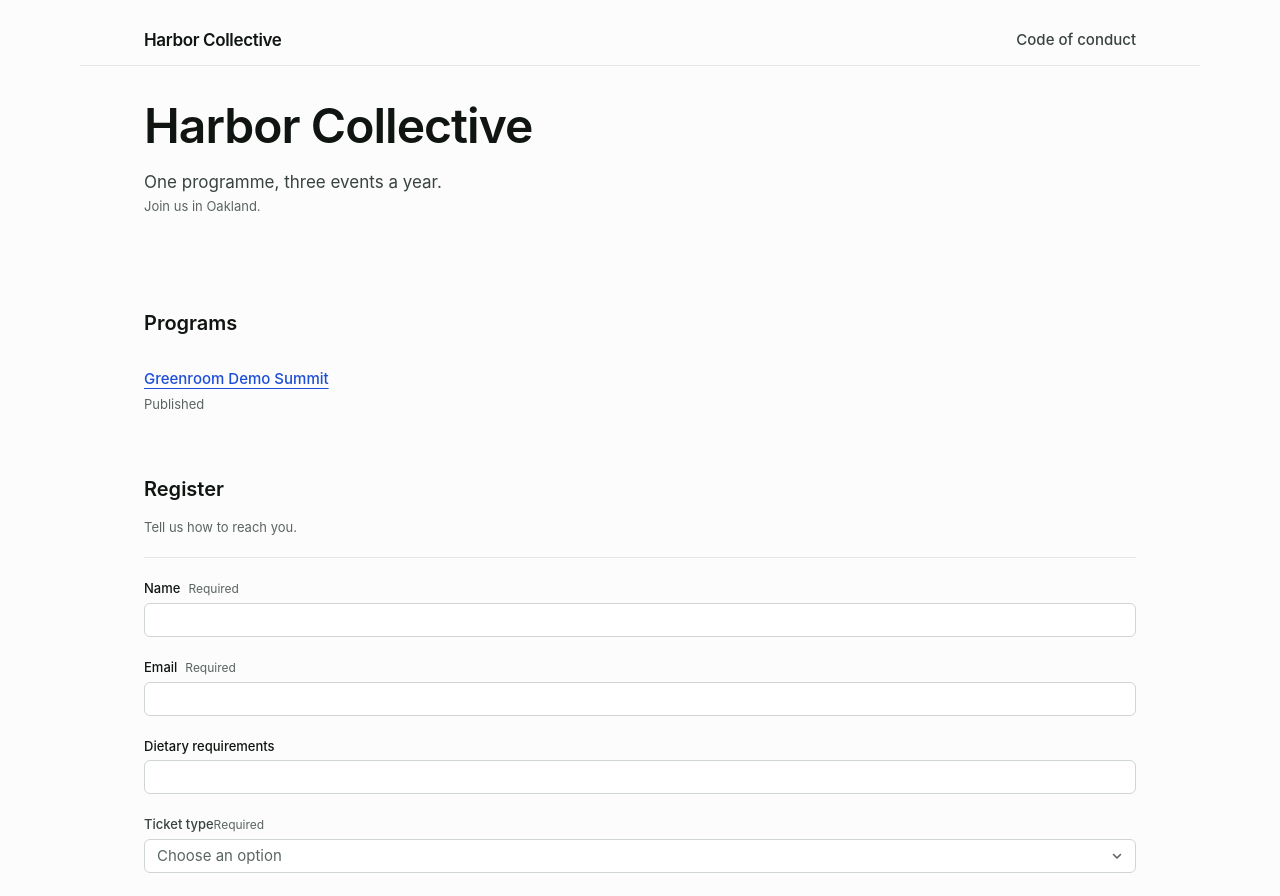
Test: sends the answers and the consent stamp, and says which version was accepted
expect the heading "Harbor Collective" is shown: met, box [144,96,532,155]
Type "Pat Attendee" into the field labelled "Name Required" at (640, 620), box [144,603,1136,637]
Type "pat@example.com" into the field labelled "Email Required" at (640, 699), box [144,682,1136,716]
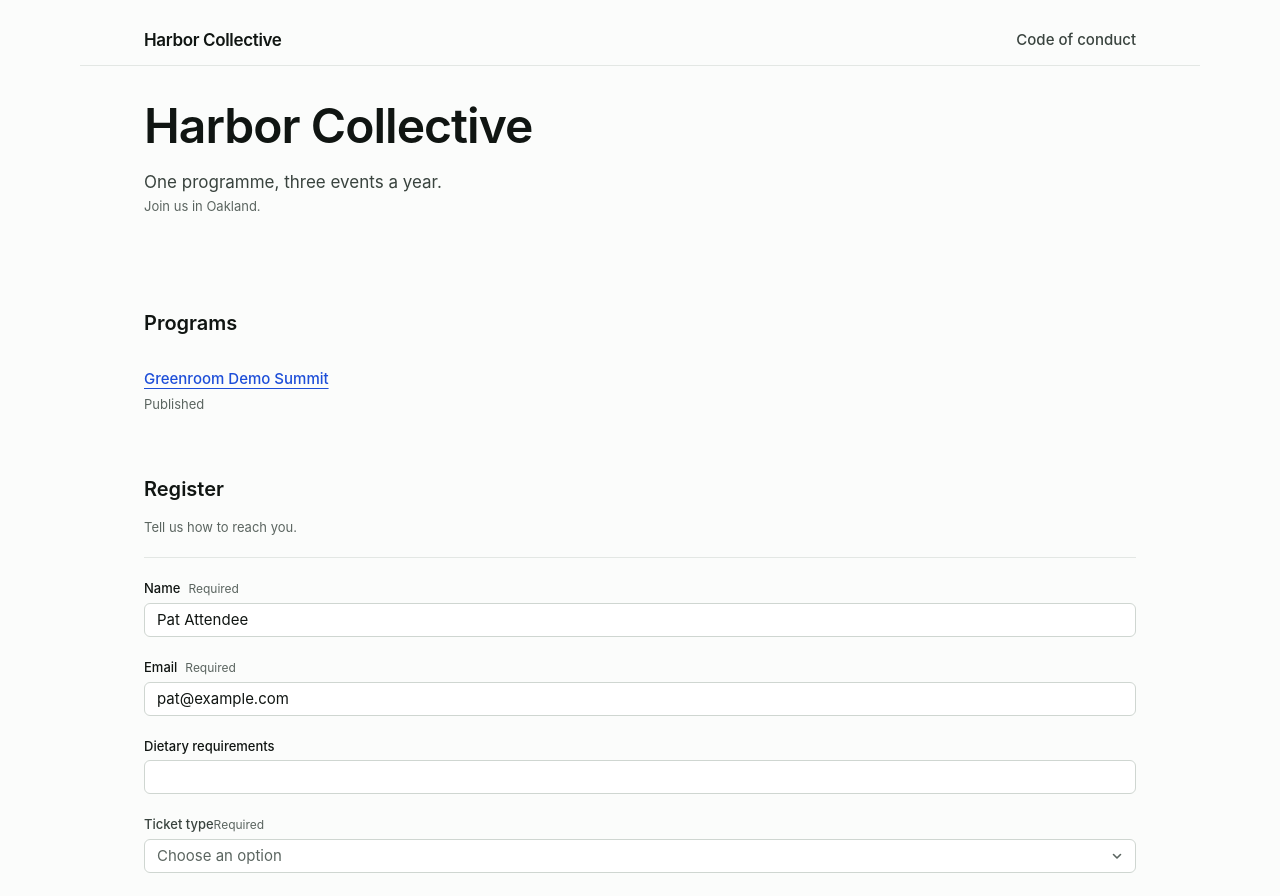
Type "None" into the field labelled "Dietary requirements" at (640, 777), box [144,760,1136,794]
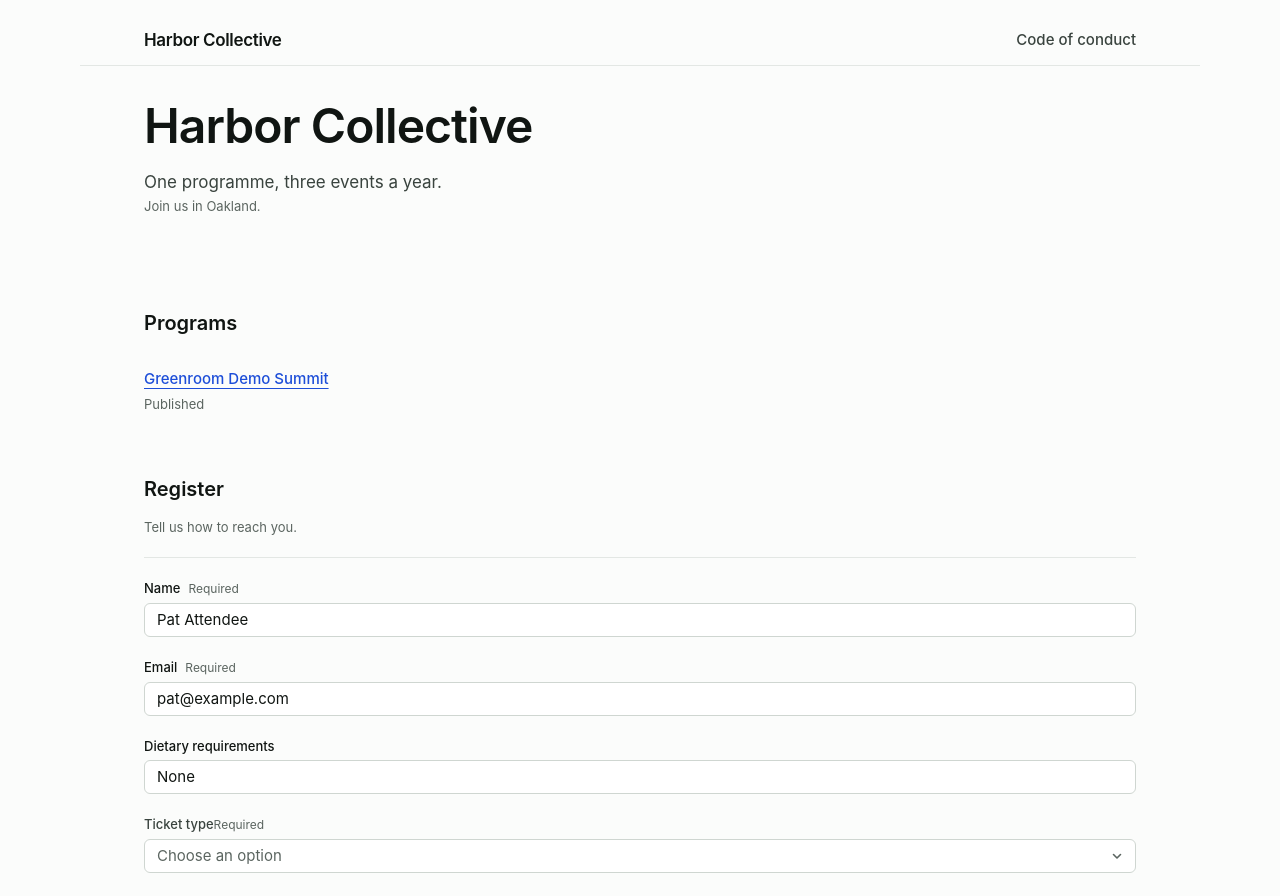
Press ArrowDown in the dropdown named "Ticket type", box [144,839,1136,873]
(page scrolled)
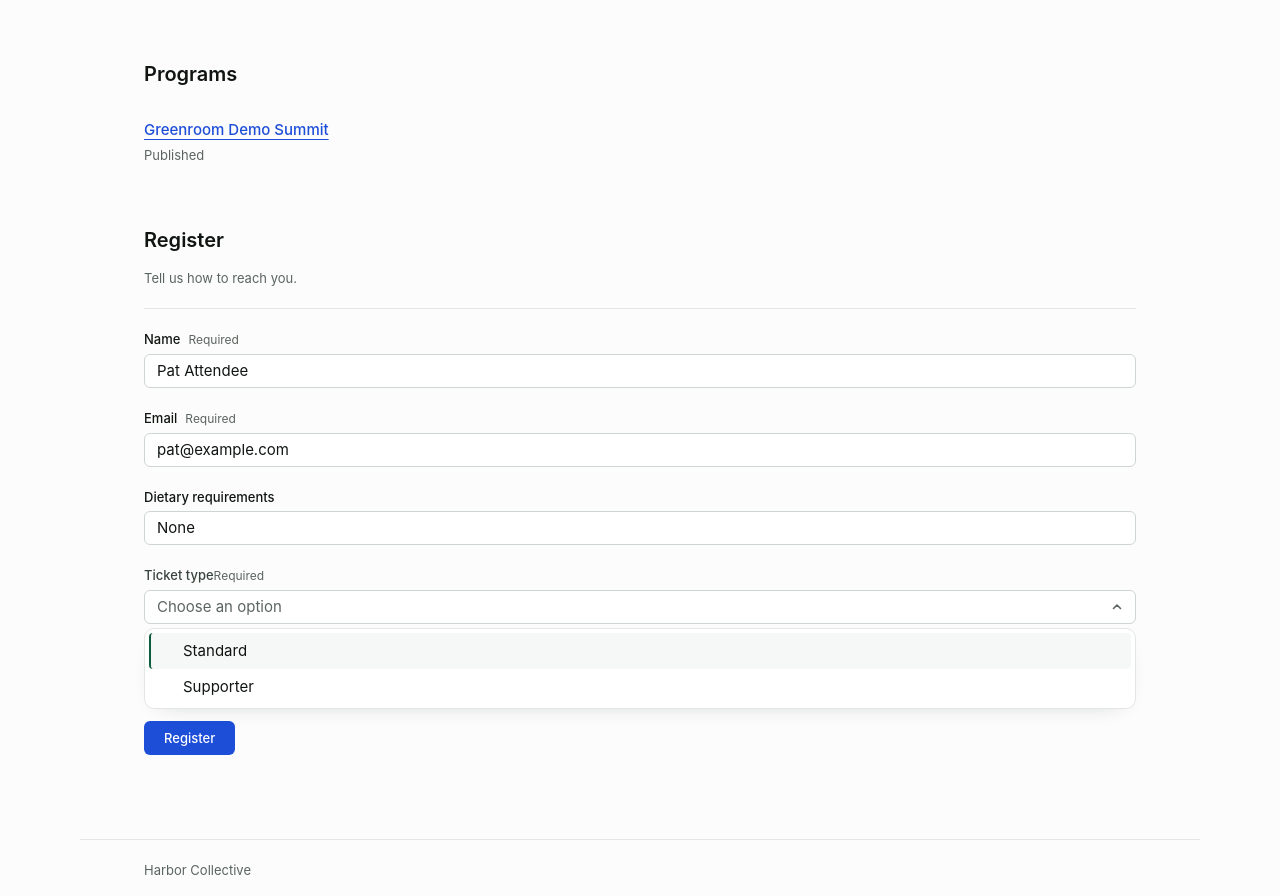
Click the option "Supporter" at (218, 686), box [183,677,254,696]
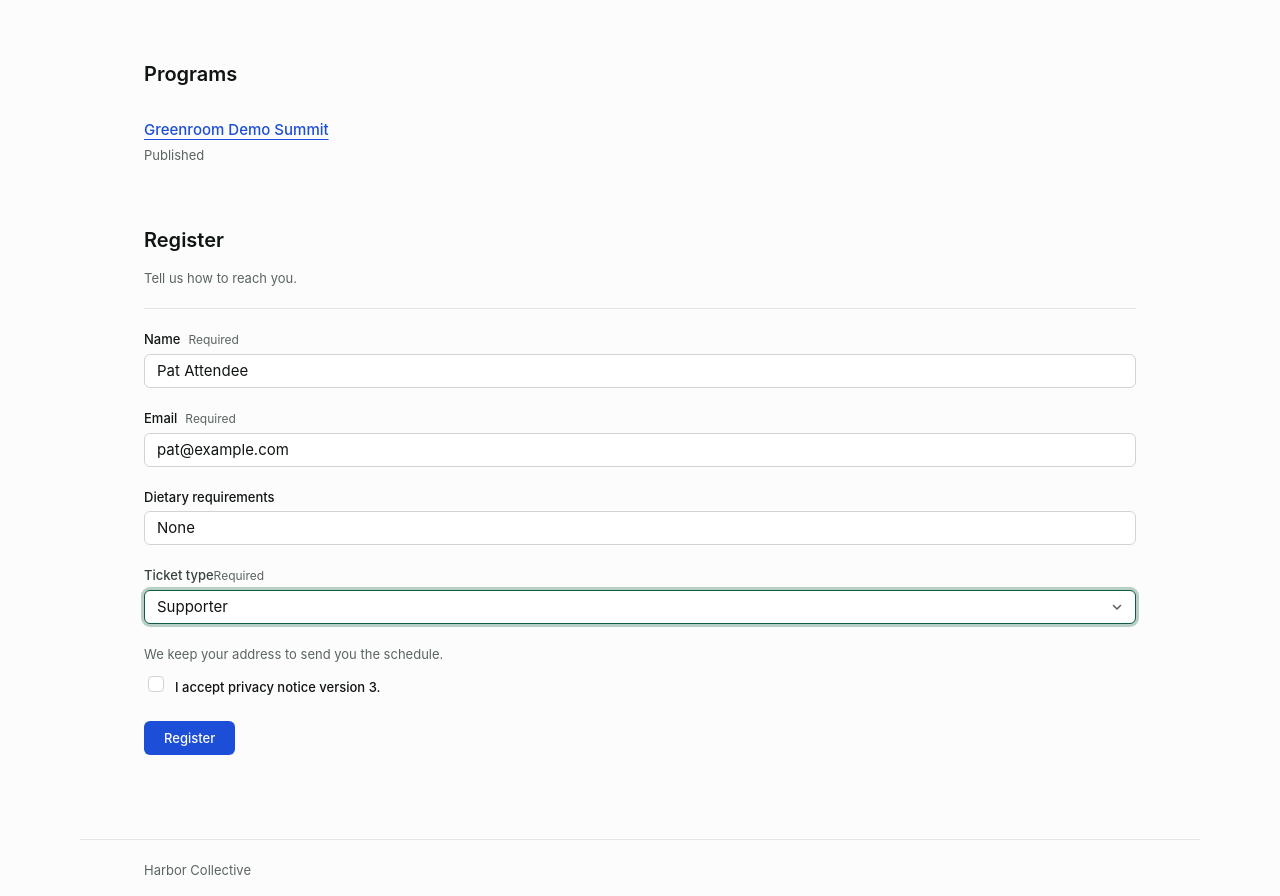
Click the checkbox labelled "I accept privacy notice version 3." at (156, 684), box [148,676,164,692]
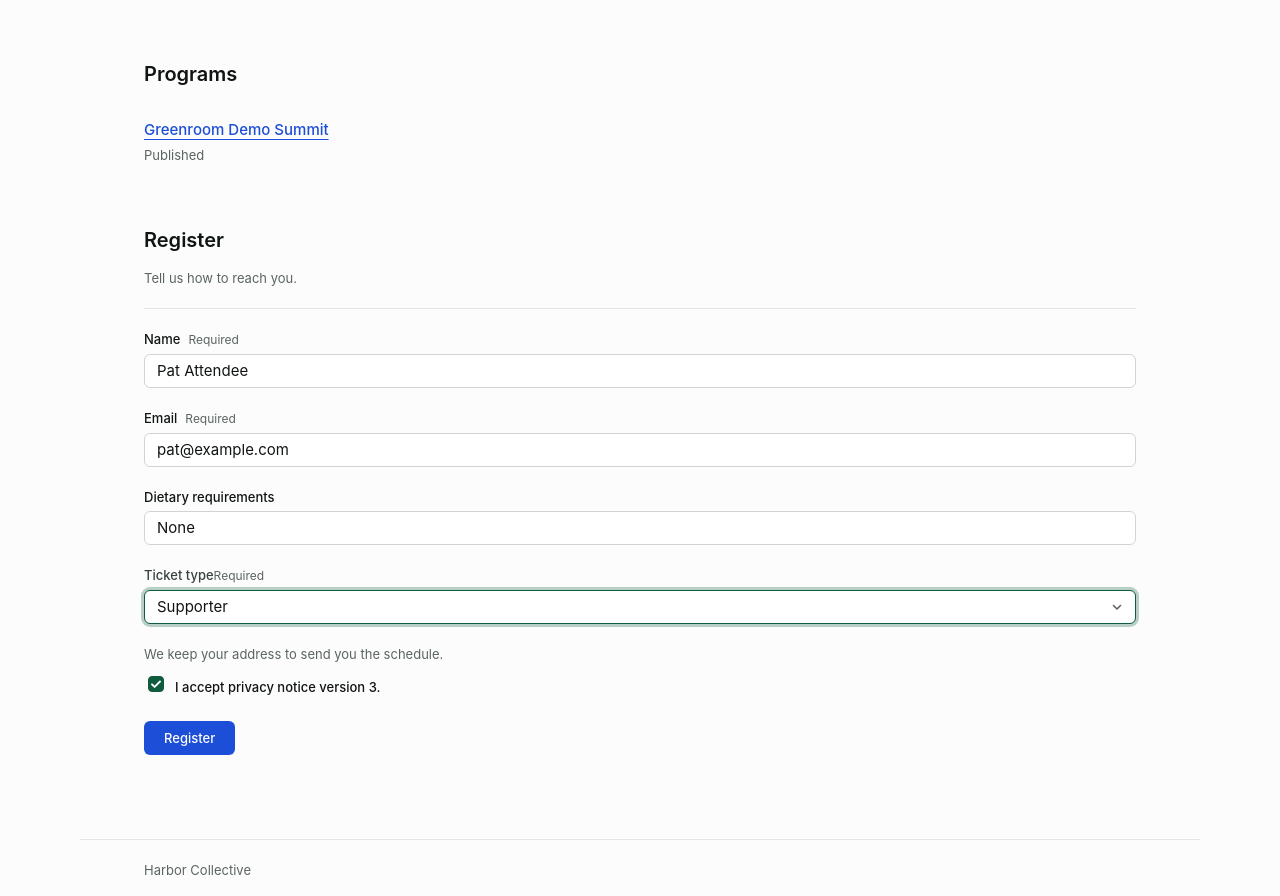
Submit the form from the button "Register", box [144,721,235,755]
(page scrolled)
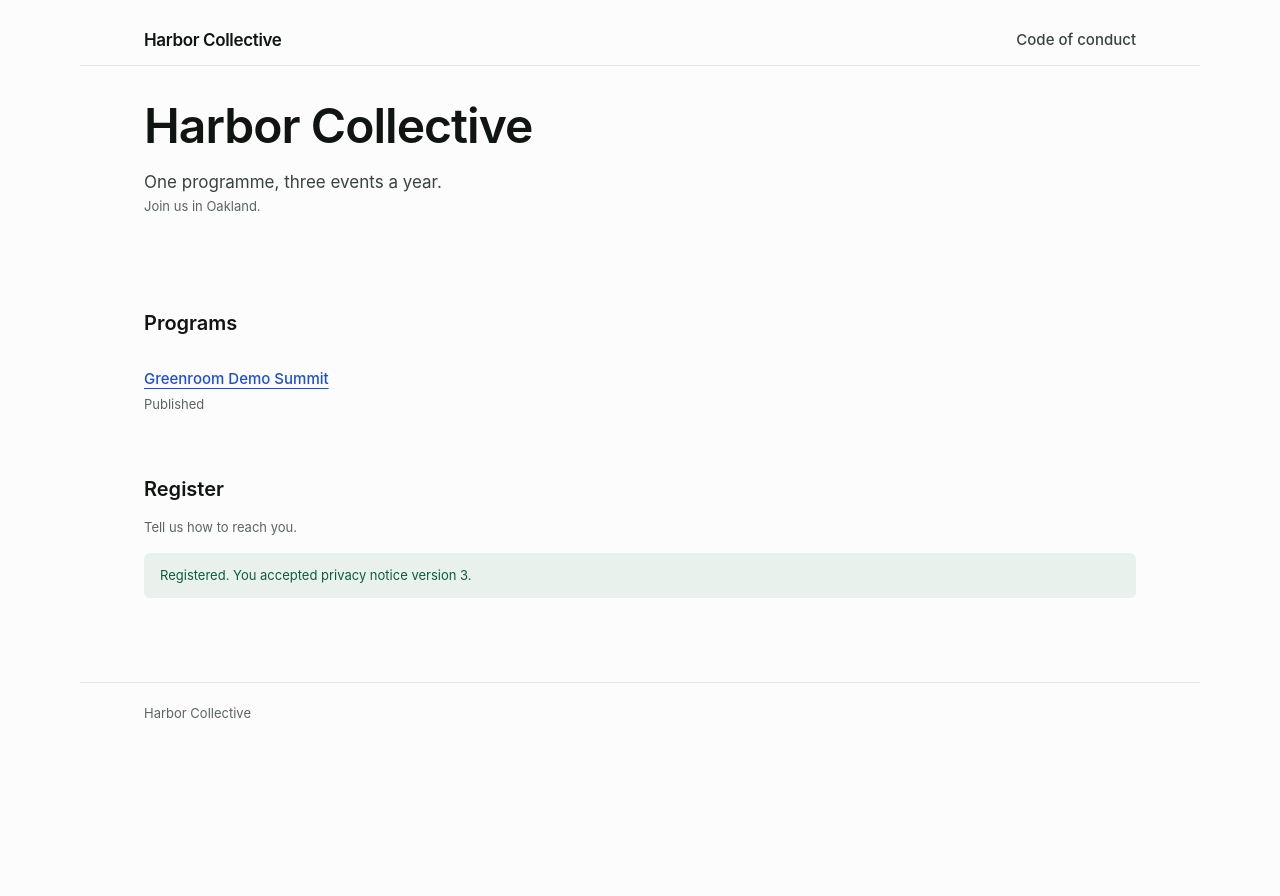
expect the message reads "Registered. You accepted privacy notice version 3.": met, box [144,554,1136,598]
